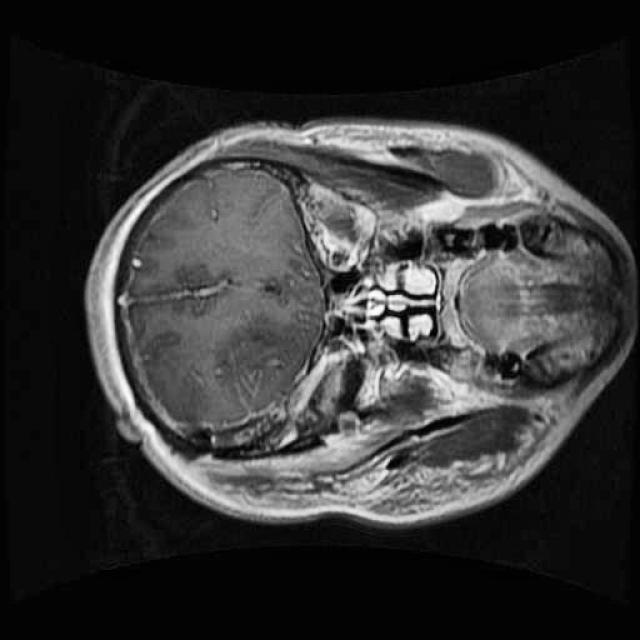Non-Tumor: (243, 329, 385, 461)
